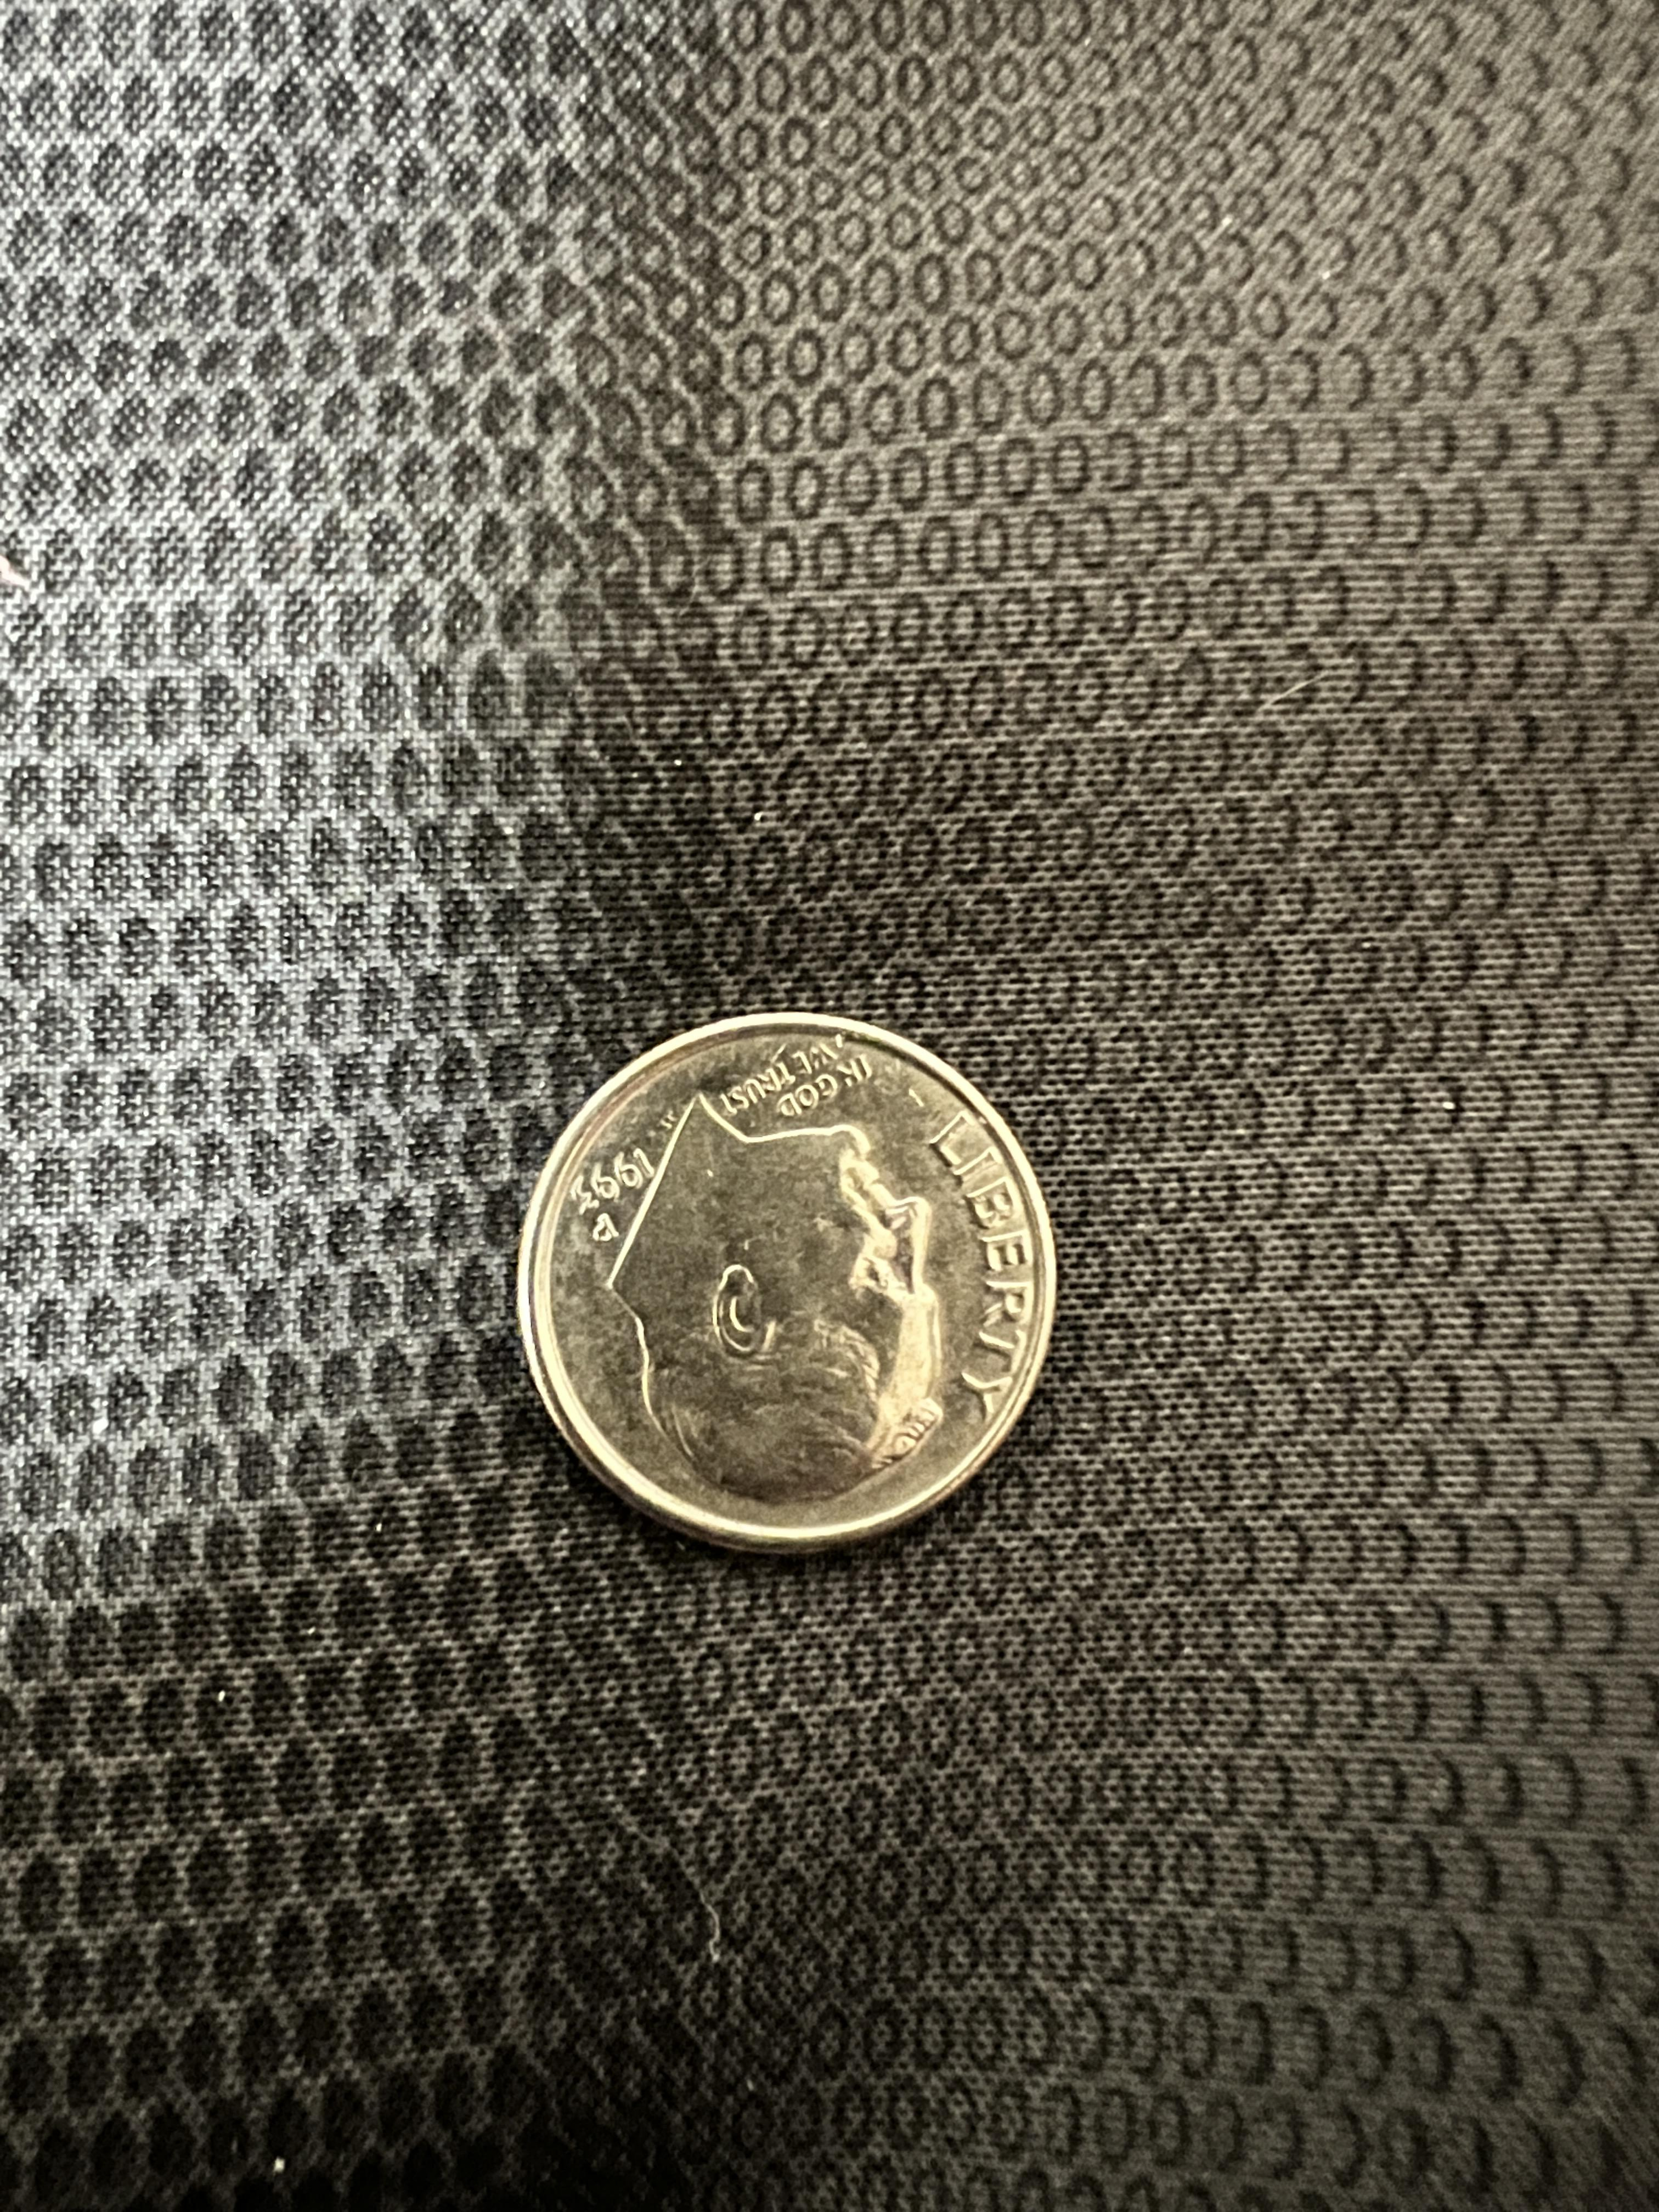Dime: (507, 979, 1103, 1569)
